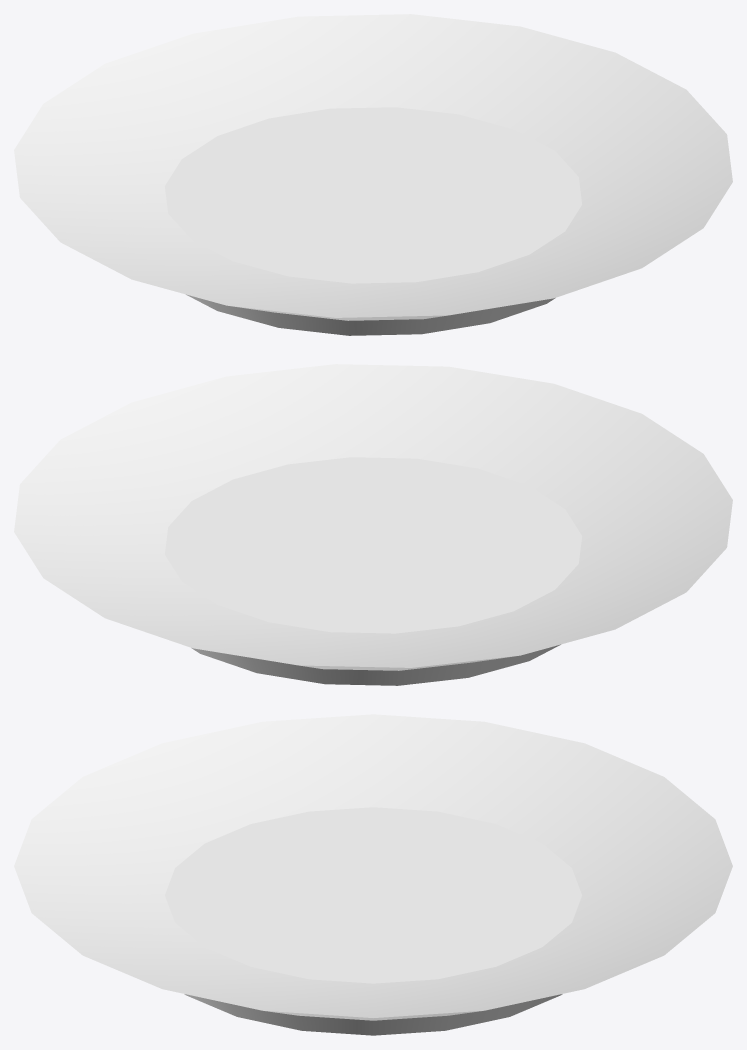
The model's file is plate.obj.
3 renders of one model, top to bottom at view 1: azimuth 30°, elevation 25°; view 2: azimuth 150°, elevation 25°; view 3: azimuth 270°, elevation 25°, orthographic.
Parts seen in each view (by area): view 1: pCylinder3; view 2: pCylinder3; view 3: pCylinder3.
Part boxes in pixels (x1,y1,x2,y2): pCylinder3: [14, 14, 732, 335]; pCylinder3: [14, 364, 732, 685]; pCylinder3: [14, 714, 732, 1035].
Size of the model in its own units: 1.86 by 0.2034 by 1.86.
1 material, 1 textured.
